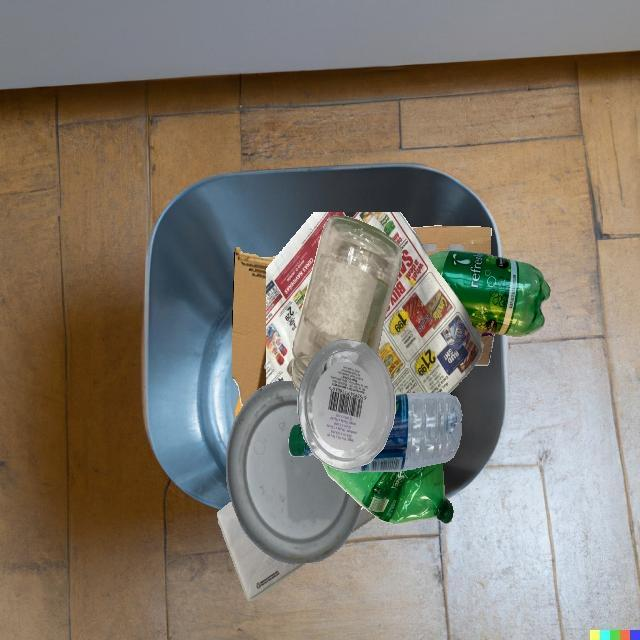biowaste: (235, 396, 243, 419)
cardboard: (232, 247, 277, 406), (411, 226, 491, 256)
glass: (292, 215, 402, 391)
paper: (266, 212, 484, 395), (217, 501, 306, 601), (360, 506, 364, 510)
plastic: (226, 381, 361, 564), (297, 339, 396, 470), (301, 392, 462, 472), (428, 250, 550, 337), (321, 461, 454, 525)
